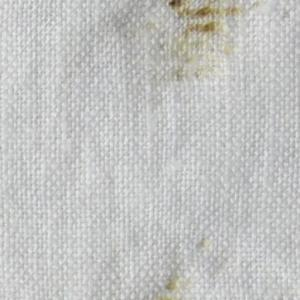Oil Stain: (141, 1, 263, 83), (152, 235, 217, 300)
